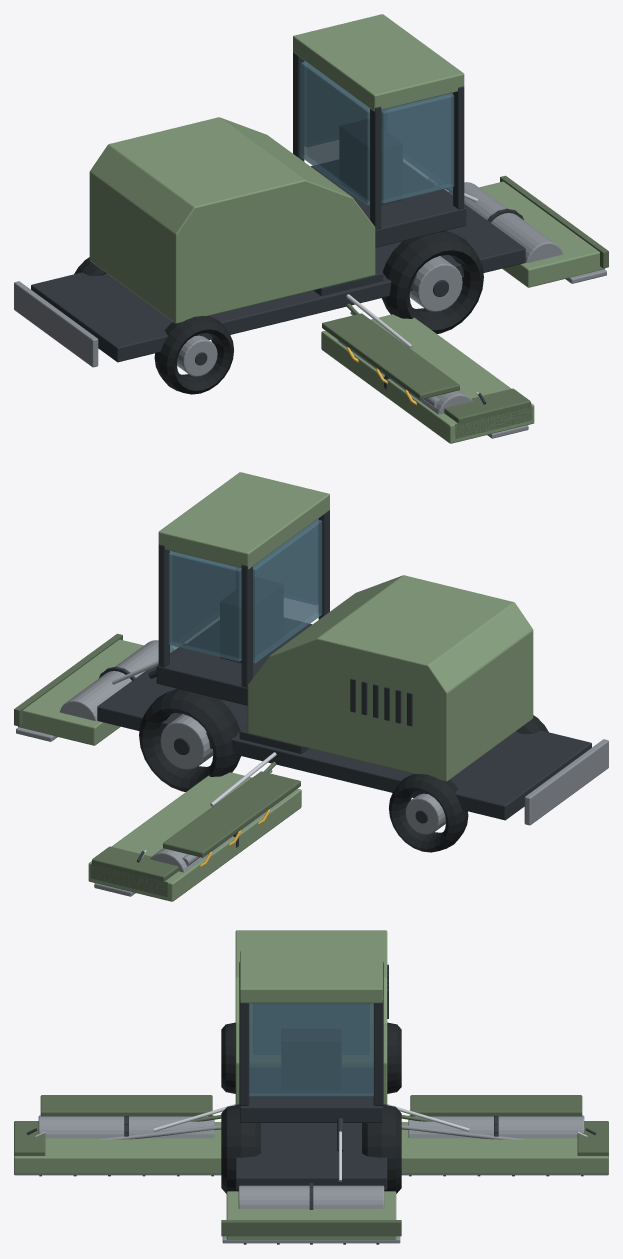
File: krone-big-m-450-cv-structural-study.glb
3 views of the same model, one above another, from view 1: azimuth 30°, elevation 25°; view 2: azimuth 150°, elevation 25°; view 3: azimuth 270°, elevation 25° (orthographic). The views are drawn at different scales.
Visible parts, largest first — view 1: Power_Module_Tapered_Shell, Mower_Main_Frame, Cab_Roof, Deck_R_Wing, Cab_R_Glass, Cab_Rear_Glass, Front_R_Tire, Cab_Floor, Deck_R_Swath_Hood, Front_Mower_Deck, Operator_Seat, Rear_R_Tire (+12 smaller); view 2: Power_Module_Tapered_Shell, Mower_Main_Frame, Cab_Roof, Deck_L_Wing, Cab_L_Glass, Cab_Rear_Glass, Front_L_Tire, Cab_Floor, Deck_L_Swath_Hood, Front_Mower_Deck, Operator_Seat, Rear_L_Tire (+12 smaller); view 3: Cab_Front_Glass, Mower_Main_Frame, Cab_Roof, Deck_L_Wing, Deck_R_Wing, Power_Module_Tapered_Shell, Cab_Floor, Deck_L_Swath_Hood, Deck_R_Swath_Hood, Operator_Seat, Front_Conditioner_Rotor_640mm, Deck_L_Conditioner_Rotor_640mm (+16 smaller).
Part boxes in pixels (x1,y1,x2,y2): Power_Module_Tapered_Shell: (89, 117, 375, 323); Mower_Main_Frame: (31, 186, 525, 362); Cab_Roof: (293, 14, 464, 111); Deck_R_Wing: (321, 314, 534, 443); Cab_R_Glass: (381, 93, 454, 203); Cab_Rear_Glass: (300, 61, 369, 205); Front_R_Tire: (382, 231, 483, 333); Cab_Floor: (310, 160, 466, 247); Deck_R_Swath_Hood: (322, 313, 459, 399); Front_Mower_Deck: (479, 181, 604, 287); Operator_Seat: (340, 119, 402, 205); Rear_R_Tire: (154, 316, 233, 394); Power_Module_Tapered_Shell: (247, 575, 533, 781); Mower_Main_Frame: (97, 644, 591, 820); Cab_Roof: (158, 472, 329, 569); Deck_L_Wing: (88, 772, 301, 901); Cab_L_Glass: (168, 551, 241, 661); Cab_Rear_Glass: (253, 519, 322, 663); Front_L_Tire: (139, 689, 240, 791); Cab_Floor: (156, 618, 312, 705); Deck_L_Swath_Hood: (163, 771, 300, 857); Front_Mower_Deck: (18, 639, 143, 745); Operator_Seat: (220, 577, 282, 663); Rear_L_Tire: (389, 774, 468, 852); Cab_Front_Glass: (249, 1003, 373, 1096); Mower_Main_Frame: (235, 1104, 387, 1190); Cab_Roof: (240, 951, 382, 1003); Deck_L_Wing: (401, 1122, 608, 1173); Deck_R_Wing: (14, 1122, 221, 1173); Power_Module_Tapered_Shell: (235, 930, 387, 1104); Cab_Floor: (240, 1068, 382, 1122); Deck_L_Swath_Hood: (410, 1095, 582, 1116); Deck_R_Swath_Hood: (40, 1095, 212, 1116); Operator_Seat: (282, 1029, 340, 1089); Front_Conditioner_Rotor_640mm: (238, 1185, 384, 1208); Deck_L_Conditioner_Rotor_640mm: (408, 1115, 584, 1138).
Size of the model in its own units: 8.45 by 4 by 9.9.
